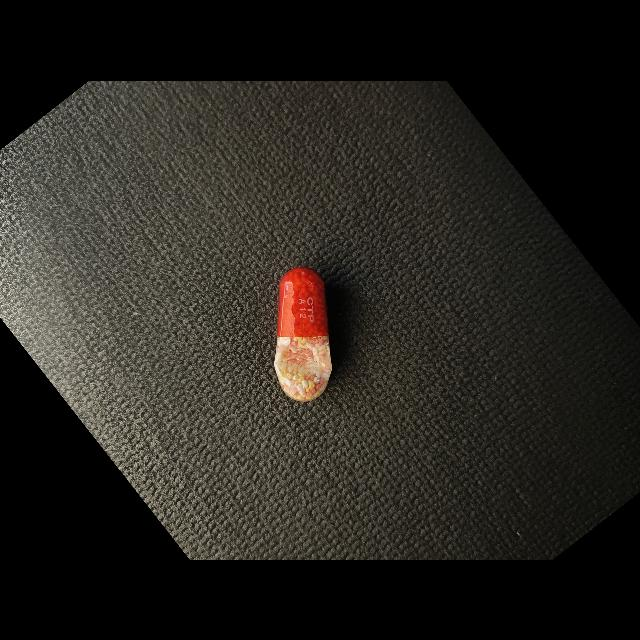Defective Capsule: (274, 266, 332, 401)
